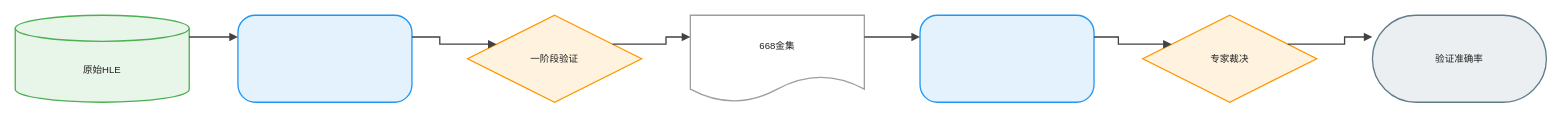
Some shapes in this 1563 by 118 pixel diagram are drawn without their labels. The shapes that lost their labels are listed below. From the top down, each one's centre as x and y in pixels, then its label:
At point 324,58: "三类组件".
At point 1006,58: "双轨修复".
